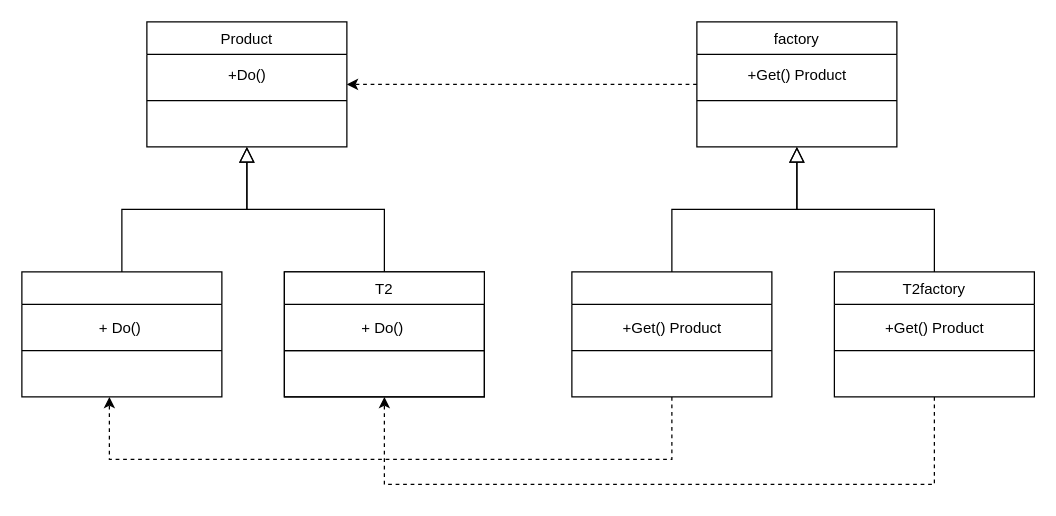
Image size: 1056x516. Some labels were removed from this diagram. The shapes that lost their labels are listed below. From the top down, each one's box as (x1, y1, x2, y2) in pixels, then its label:
(21, 271, 222, 397): T1
(571, 271, 772, 397): T1factory
